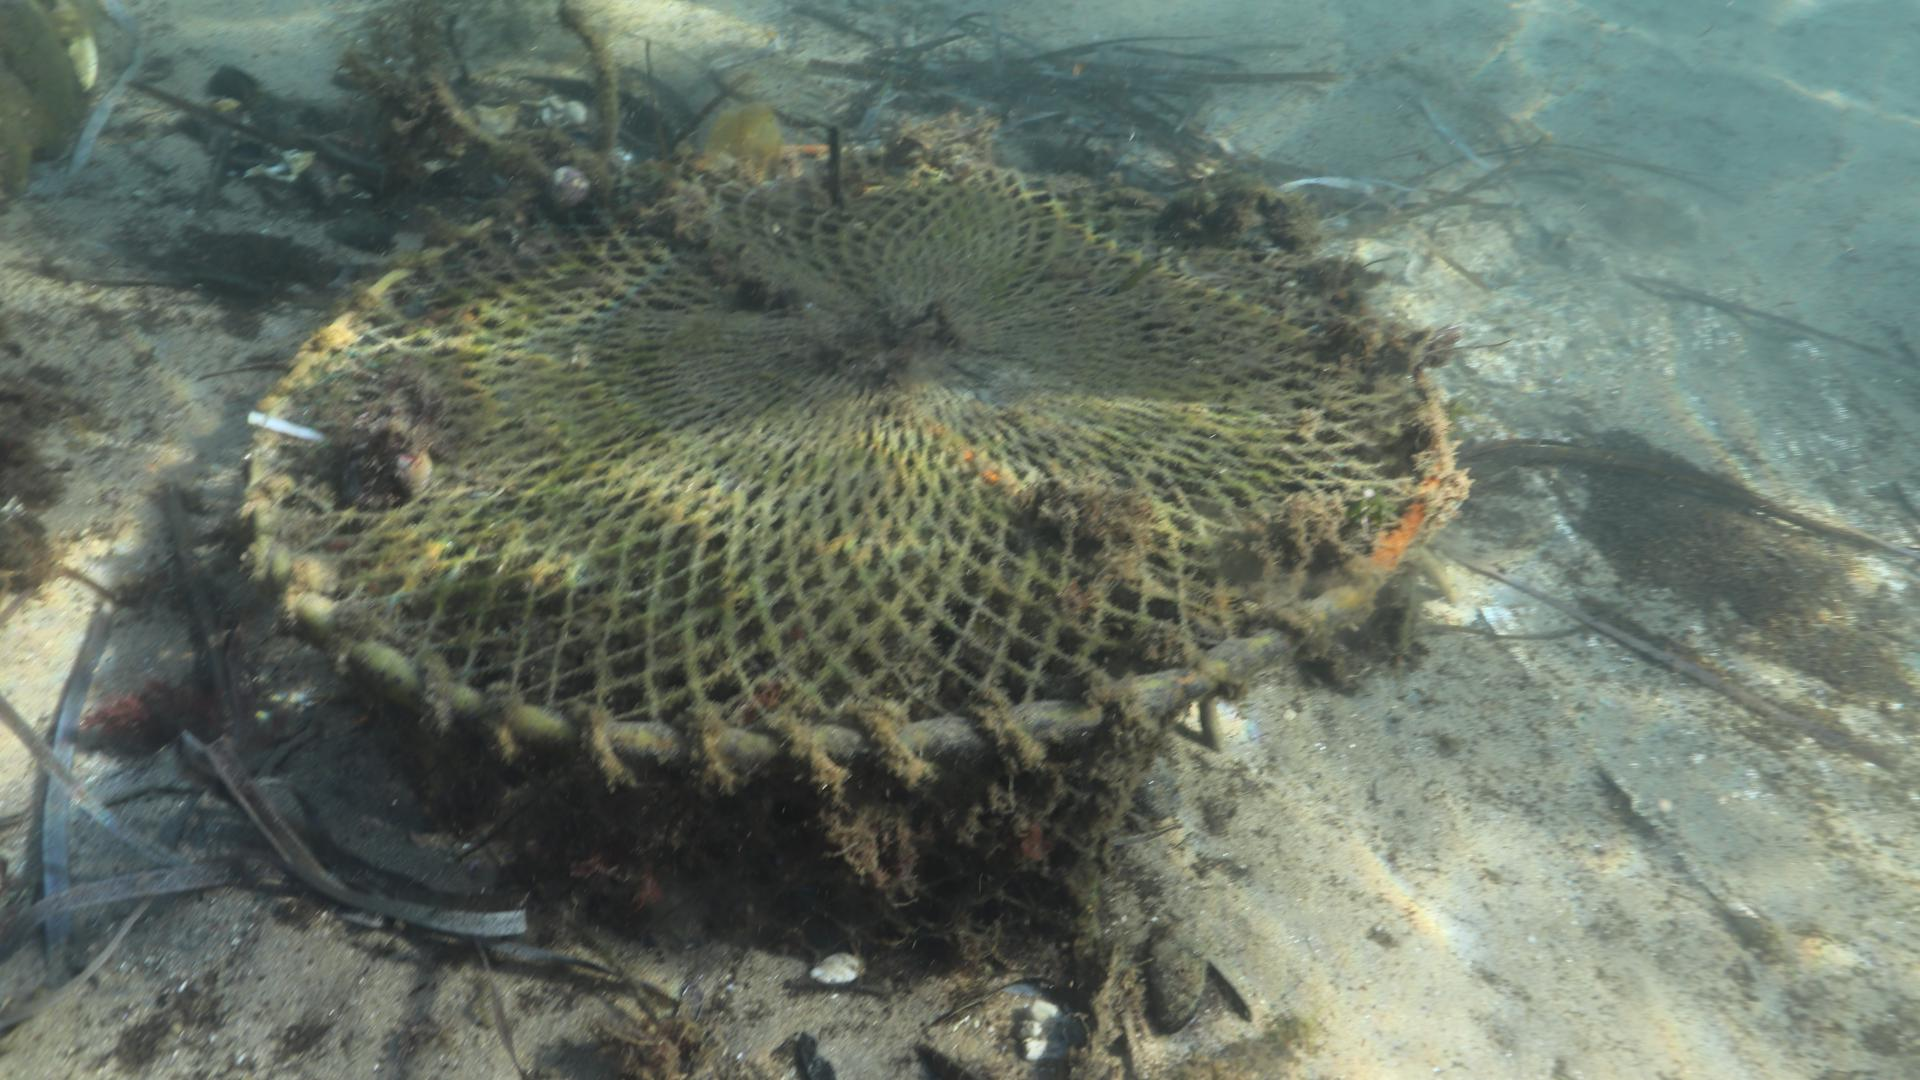circular fish trap: (243, 144, 1458, 924)
